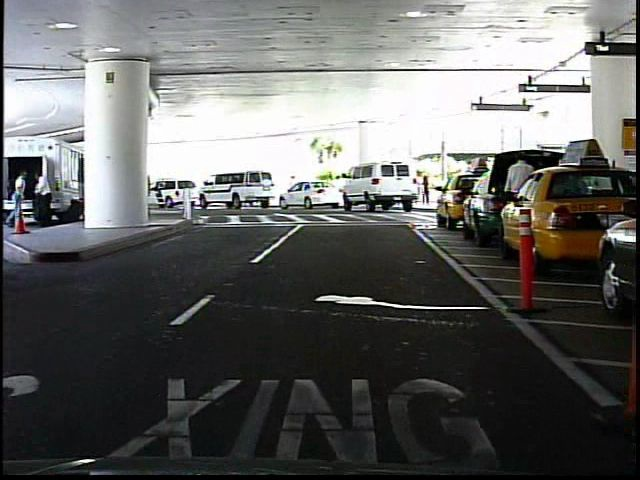person: (501, 149, 538, 249), (420, 175, 435, 207), (285, 172, 300, 204)
